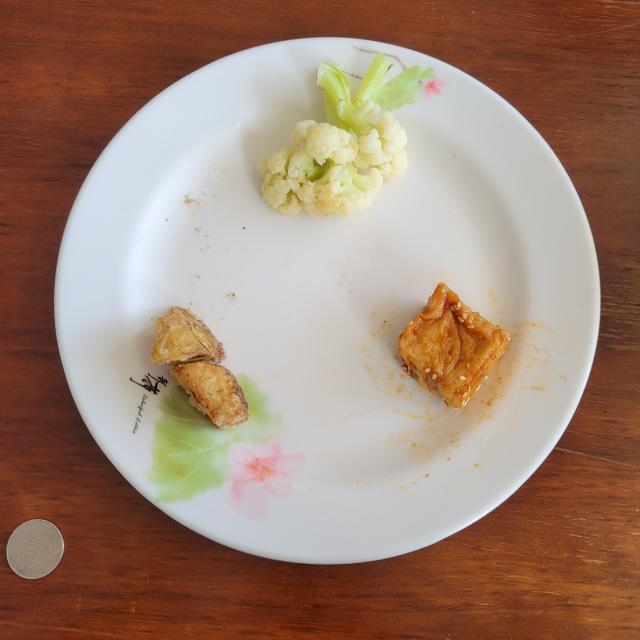coin: (6, 519, 64, 579)
creamy tofu: (398, 282, 511, 409)
fried potato: (150, 306, 249, 430)
